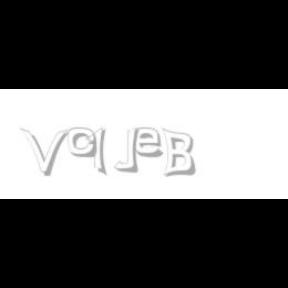1: (85, 128, 107, 176)
B: (161, 128, 195, 178)
J: (114, 128, 138, 172)
V: (20, 128, 68, 176)
e: (134, 128, 168, 158)
o: (68, 128, 96, 158)
